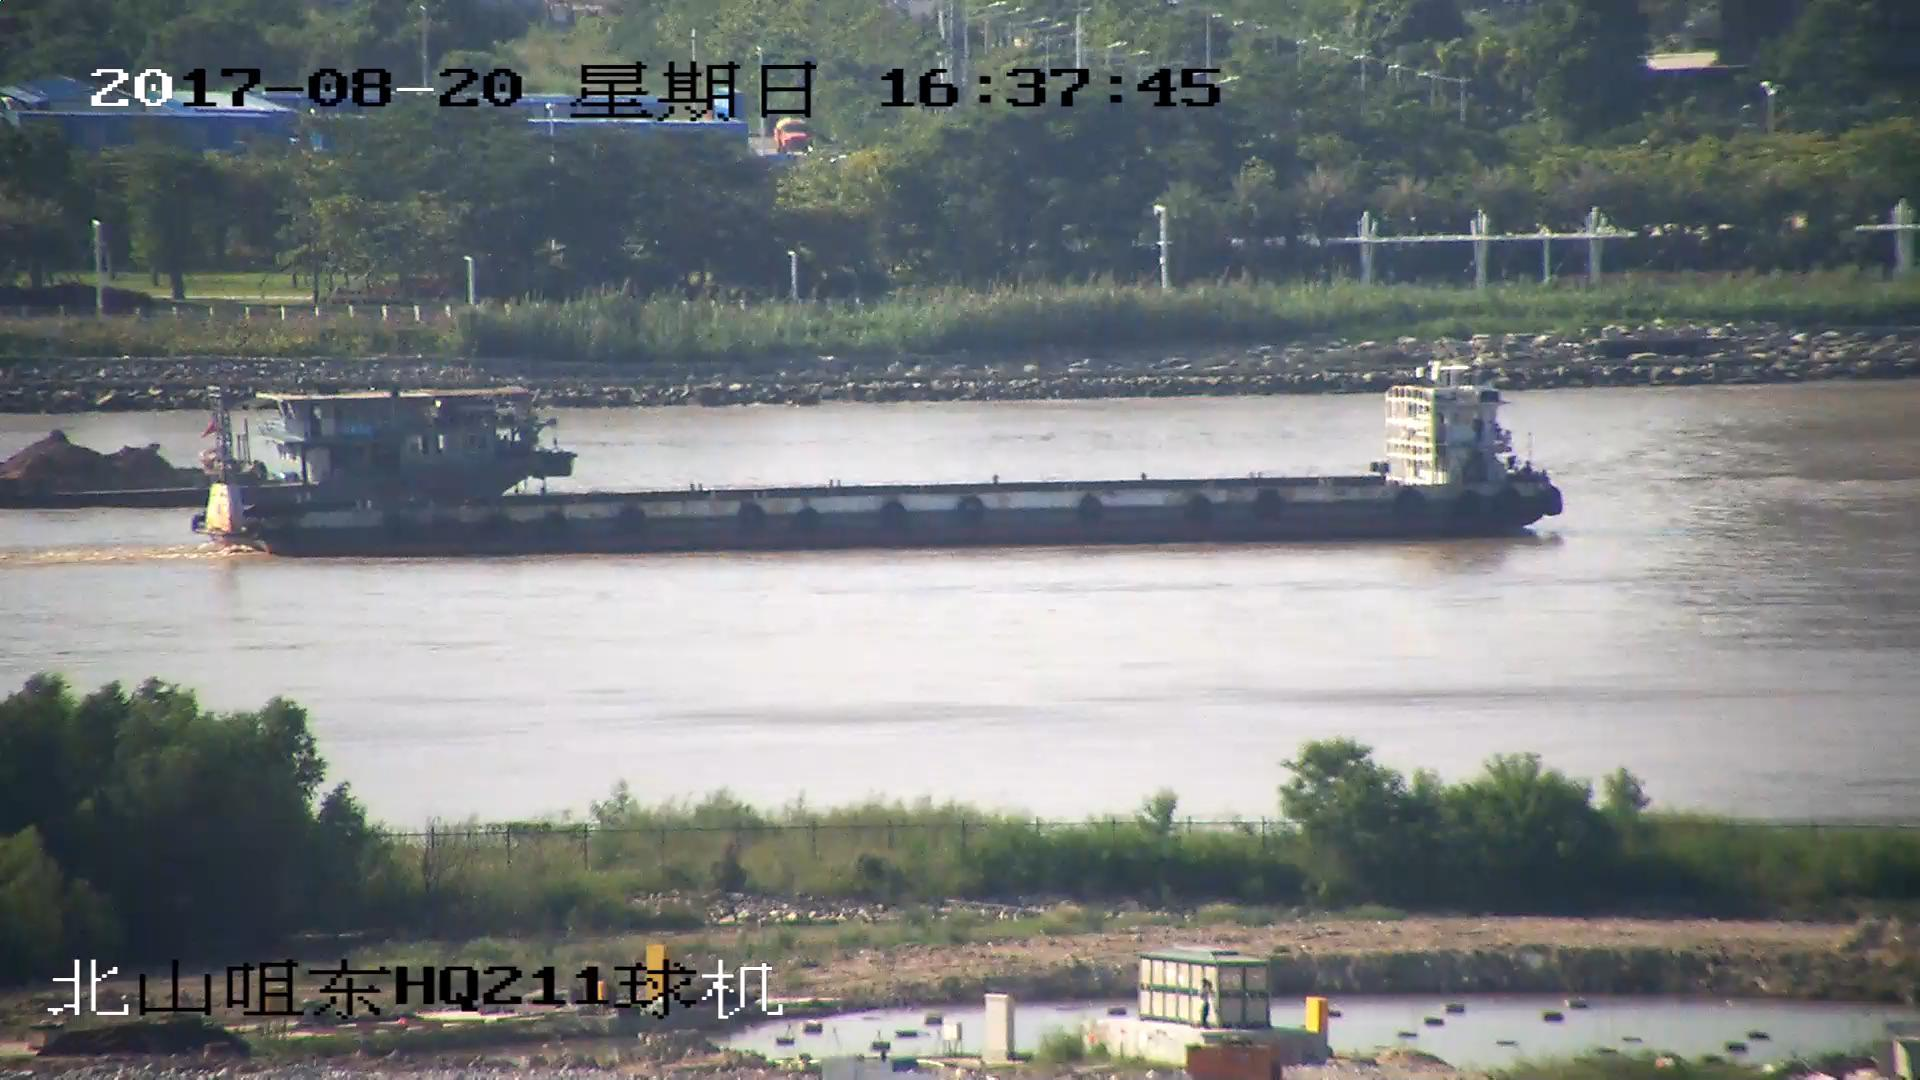Ship: (204, 360, 1564, 556), (3, 398, 568, 512)
